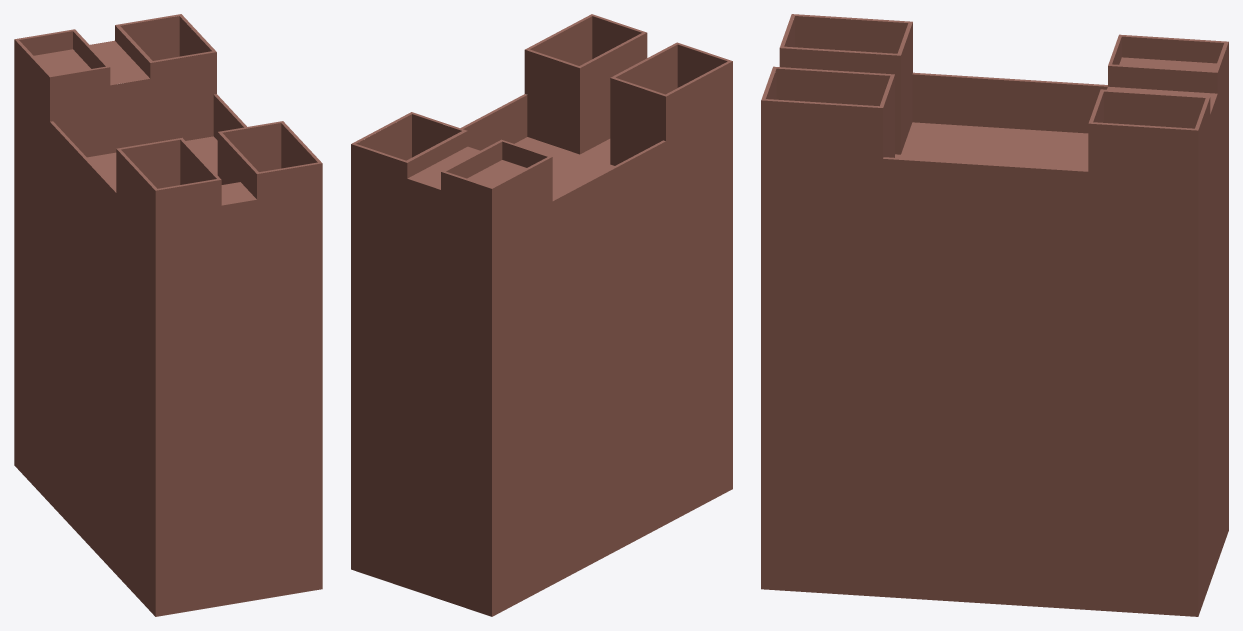
The model's file is tile--8_2.glb.
3 views of the same model, side by side, from view 1: azimuth 30°, elevation 25°; view 2: azimuth 150°, elevation 25°; view 3: azimuth 270°, elevation 25° (orthographic). The views are drawn at different scales.
Visible parts, largest first — view 1: wall, roof; view 2: wall, roof; view 3: wall, roof.
Part boxes in pixels (x1,y1,x2,y2): wall: (14, 16, 322, 616); roof: (15, 14, 321, 205); wall: (351, 16, 732, 616); roof: (351, 14, 732, 200); wall: (761, 16, 1228, 616); roof: (761, 14, 1228, 171).
Bounding box in the file's own units: 20.12 × 40.35 × 34.96.
